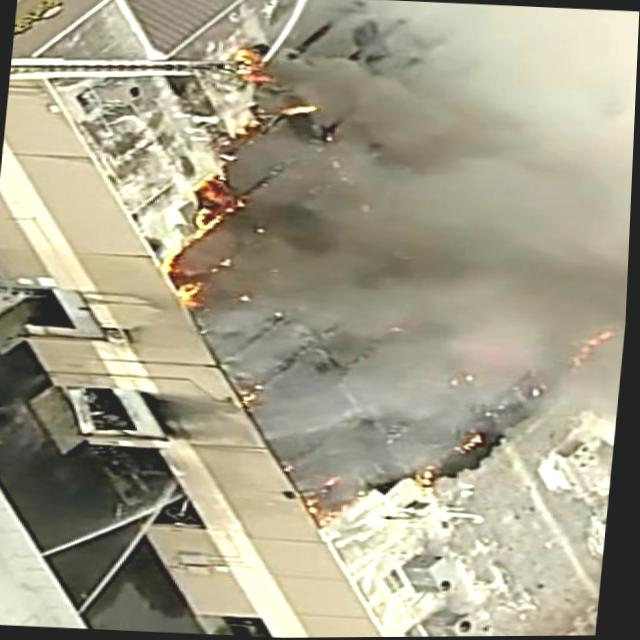smoke: (411, 159, 634, 376)
